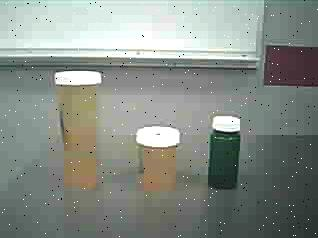Bottle A: (46, 67, 114, 196)
Bottle B: (134, 122, 184, 200)
Bottle C: (203, 111, 248, 201)
